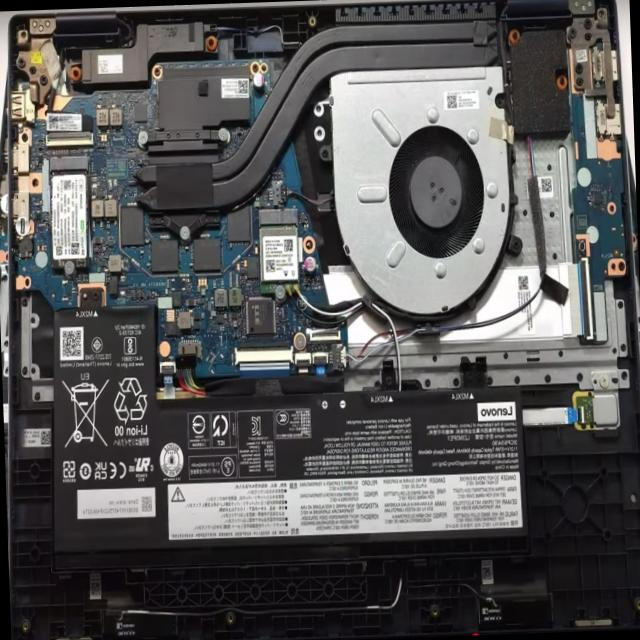battery: (49, 385, 524, 554)
ssd: (46, 156, 93, 276)
wifi: (260, 207, 300, 293)
